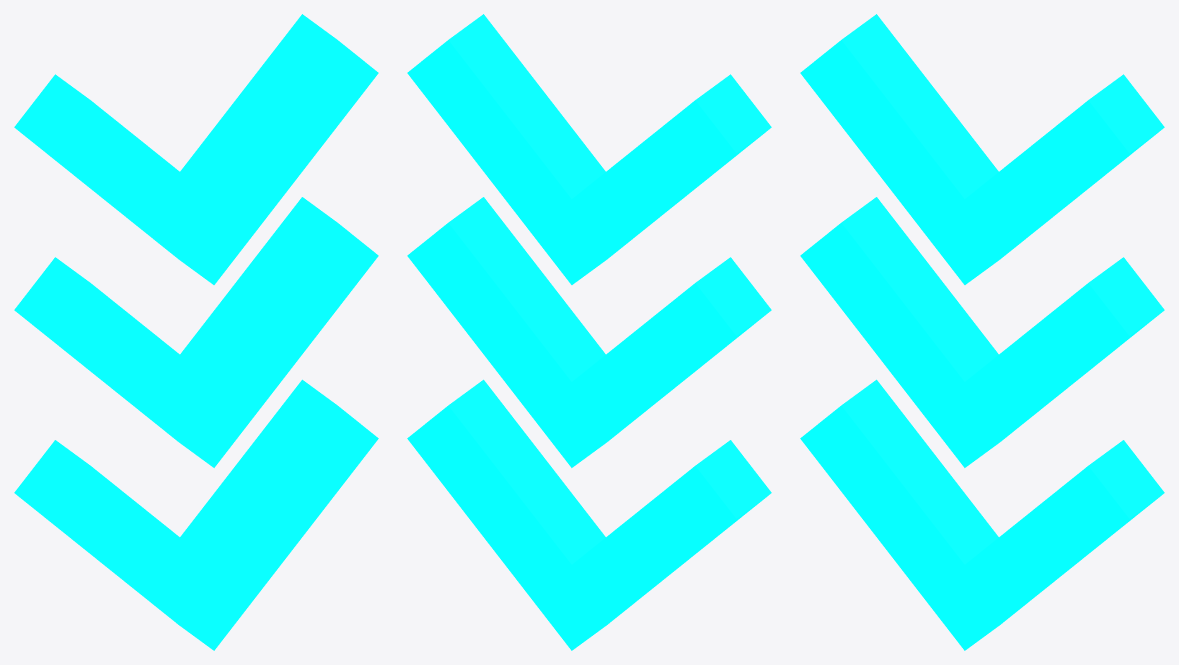
Rendered from indicatorArrow_teal.glb.
The picture shows the model from 3 angles, left to right: view 1: azimuth 30°, elevation 25°; view 2: azimuth 150°, elevation 25°; view 3: azimuth 330°, elevation 25°; orthographic projection.
Visible parts, largest first — view 1: Plane; view 2: Plane; view 3: Plane.
Boxes of the visible parts, box(x1,y1,x2,y2) form: Plane: box(14, 14, 378, 650); Plane: box(407, 14, 771, 650); Plane: box(800, 14, 1164, 650).
Bounding box in the file's own units: 0.3394 × 0.5721 × 0.0632.
